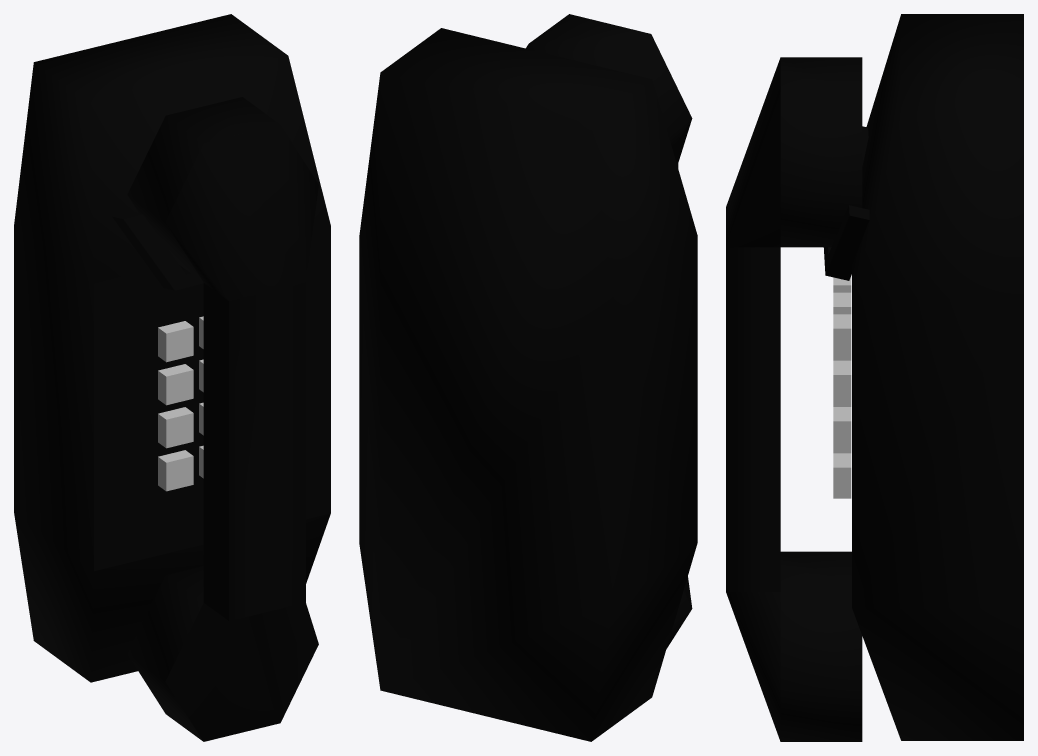
Rendered from telefono.obj.
The picture shows the model from 3 angles, left to right: view 1: azimuth 30°, elevation 25°; view 2: azimuth 150°, elevation 25°; view 3: azimuth 270°, elevation 25°; orthographic projection. The views are drawn at different scales.
Parts seen in each view (by area): view 1: telefono:telefono6; view 2: telefono:telefono6; view 3: telefono:telefono6.
Boxes of the visible parts, bbox=[...] form: telefono:telefono6: bbox=[14, 14, 330, 741]; telefono:telefono6: bbox=[359, 14, 697, 741]; telefono:telefono6: bbox=[726, 14, 1023, 741].
Size of the model in its own units: 0.0878 by 0.2162 by 0.0888.
2 materials, 2 textured.
